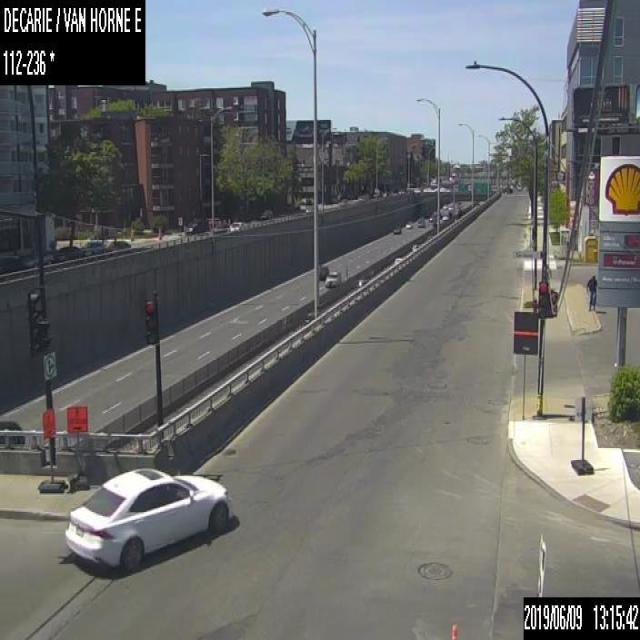construction: (36, 407, 66, 492), (66, 403, 89, 489), (570, 394, 594, 474), (449, 621, 457, 639)
pedestrian: (586, 272, 598, 311)
vehicle: (64, 464, 232, 574), (0, 416, 24, 447), (21, 248, 53, 266), (184, 215, 207, 233), (79, 240, 105, 254), (52, 246, 78, 260), (106, 240, 130, 253), (325, 270, 342, 288), (355, 273, 369, 288), (317, 264, 328, 280), (229, 219, 244, 230), (256, 209, 271, 219), (441, 209, 451, 224), (305, 203, 317, 213), (409, 241, 420, 251), (392, 256, 402, 265), (428, 213, 437, 223), (393, 223, 401, 233), (416, 216, 424, 226), (506, 184, 513, 193), (404, 220, 411, 229), (515, 184, 522, 191)
